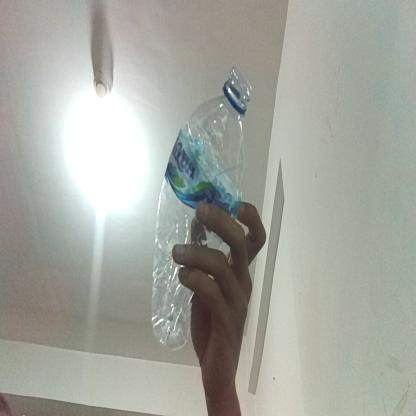plastic_bottles: (153, 67, 253, 351)
